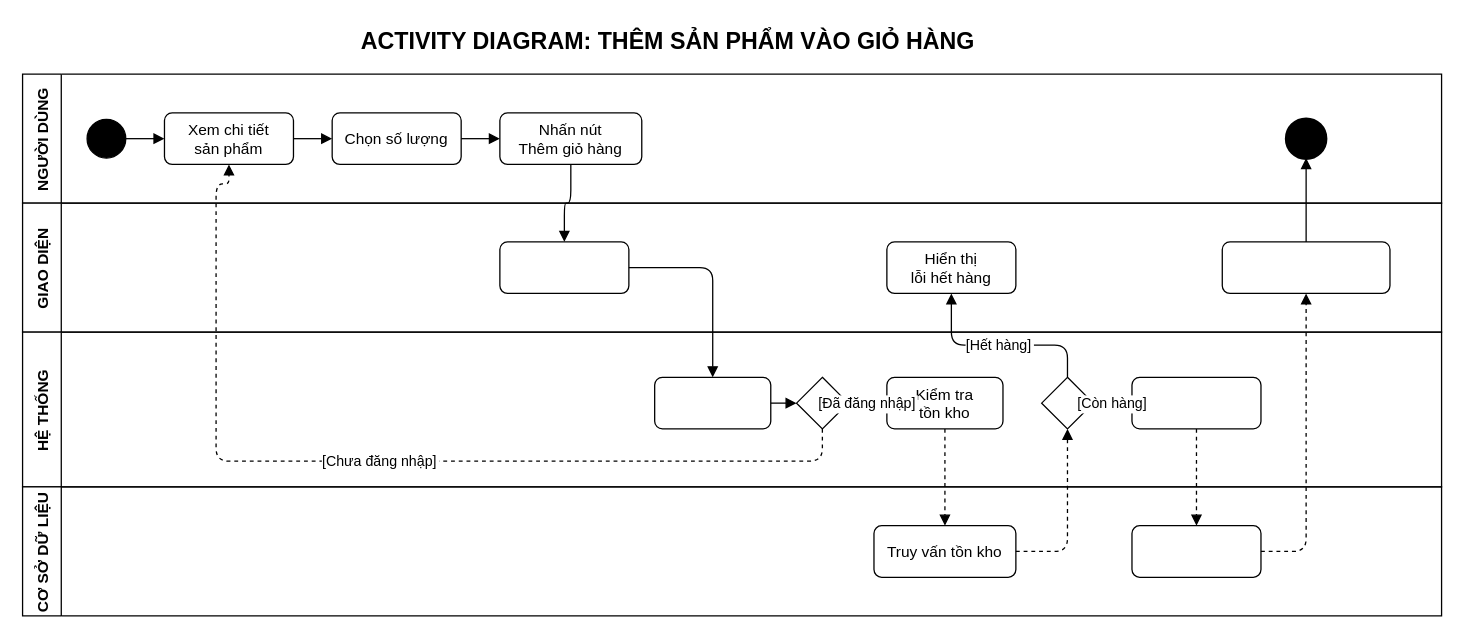
Image size: 1464x639. Some labels were removed from this diagram. Each missing label, with the centre of its shape:
"Gửi yêu cầu thêm SP" goes at (x=564, y=267).
"Hiển thị thông báo thêm thành công" goes at (x=1305, y=267).
"INSERT/UPDATE giohang" goes at (x=1196, y=550).
"Kiểm tra đăng nhập" goes at (x=712, y=402).
"Thêm/Cập nhật giỏ hàng" goes at (x=1196, y=402).
